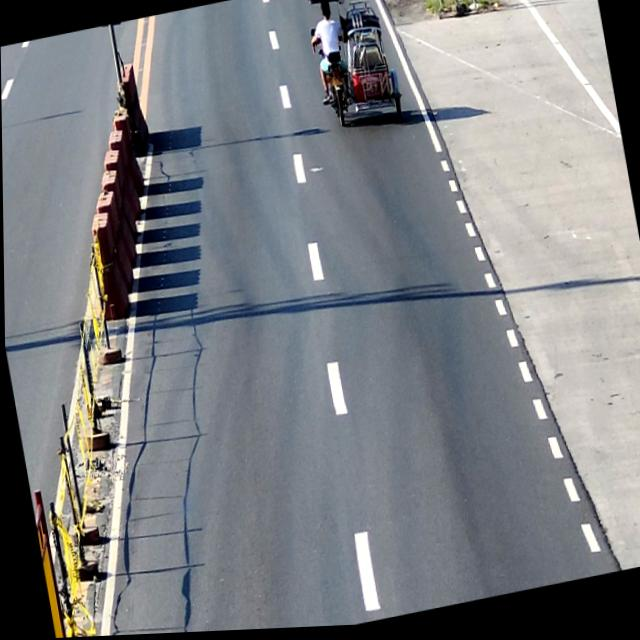License-Plate: (331, 80, 343, 91)
Tricycle: (304, 0, 404, 133)
